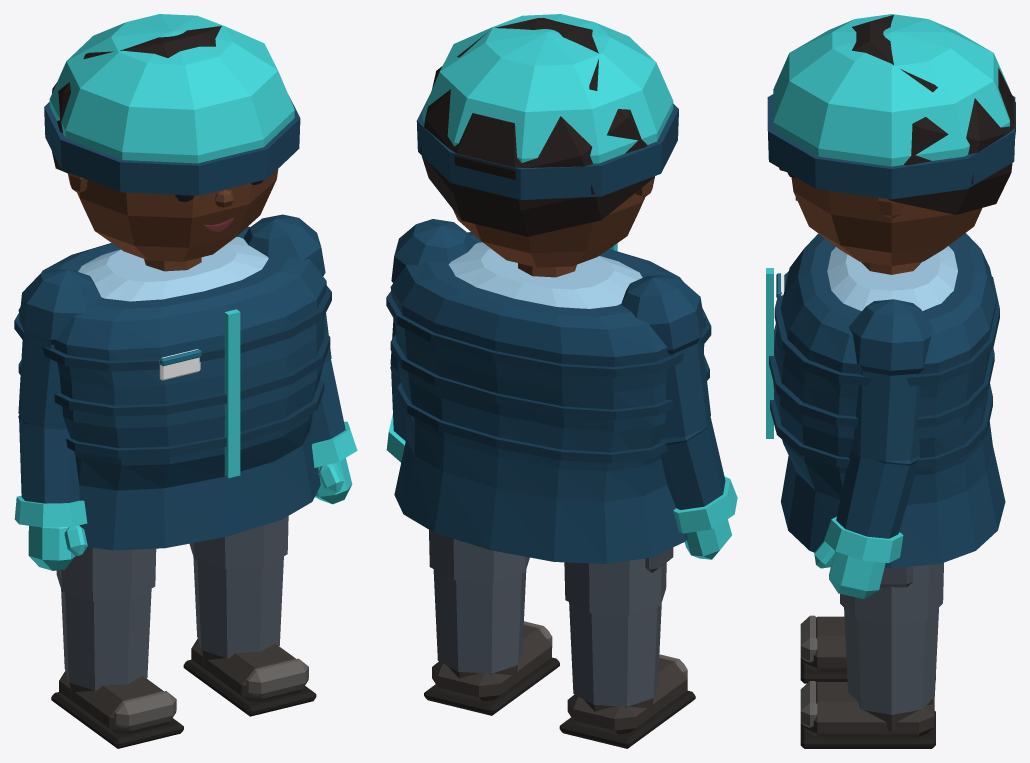
Rendered from auf_fro.glb.
3 views of the same model, side by side, from view 1: azimuth 30°, elevation 25°; view 2: azimuth 150°, elevation 25°; view 3: azimuth 270°, elevation 25° (orthographic). The views are drawn at different scales.
Parts seen in each view (by area): view 1: parka, kopfbedeckung, arm_r, bein_r, bein_l, kopf, torso, schuh_l, schuh_r, arm_l, hand_r, haare (+3 smaller); view 2: parka, kopfbedeckung, haare, arm_r, bein_r, bein_l, torso, kopf, schuh_r, schuh_l, arm_l, hand_r; view 3: parka, kopfbedeckung, arm_l, bein_l, kopf, schuh_l, haare, torso, schuh_r, hand_l, hals.
Part boxes in pixels (bbox=[...]): parka: bbox=[14, 226, 331, 550]; kopfbedeckung: bbox=[44, 14, 300, 195]; arm_r: bbox=[14, 269, 101, 527]; bein_r: bbox=[56, 547, 156, 690]; bein_l: bbox=[189, 516, 288, 658]; kopf: bbox=[67, 169, 278, 261]; torso: bbox=[78, 236, 268, 301]; schuh_l: bbox=[183, 639, 316, 716]; schuh_r: bbox=[51, 671, 183, 748]; arm_l: bbox=[243, 214, 357, 467]; hand_r: bbox=[28, 525, 87, 570]; haare: bbox=[51, 26, 221, 173]; parka: bbox=[386, 232, 711, 563]; kopfbedeckung: bbox=[416, 14, 678, 199]; haare: bbox=[420, 18, 654, 236]; arm_r: bbox=[621, 274, 737, 533]; bein_r: bbox=[564, 547, 673, 706]; bein_l: bbox=[429, 530, 529, 673]; torso: bbox=[448, 242, 642, 308]; kopf: bbox=[453, 176, 654, 267]; schuh_r: bbox=[559, 654, 695, 748]; schuh_l: bbox=[424, 621, 559, 715]; arm_l: bbox=[386, 219, 475, 462]; hand_r: bbox=[684, 519, 731, 559]; parka: bbox=[766, 233, 1005, 567]; kopfbedeckung: bbox=[767, 14, 1015, 199]; arm_l: bbox=[824, 299, 932, 562]; bein_l: bbox=[840, 562, 943, 714]; kopf: bbox=[791, 177, 982, 266]; schuh_l: bbox=[800, 681, 935, 748]; haare: bbox=[852, 15, 1015, 214]; torso: bbox=[827, 246, 957, 311]; schuh_r: bbox=[800, 615, 935, 683]; hand_l: bbox=[814, 541, 885, 598]; hals: bbox=[861, 262, 921, 274].
Bounding box in the file's own units: 0.0124 × 0.0234 × 0.00793.
